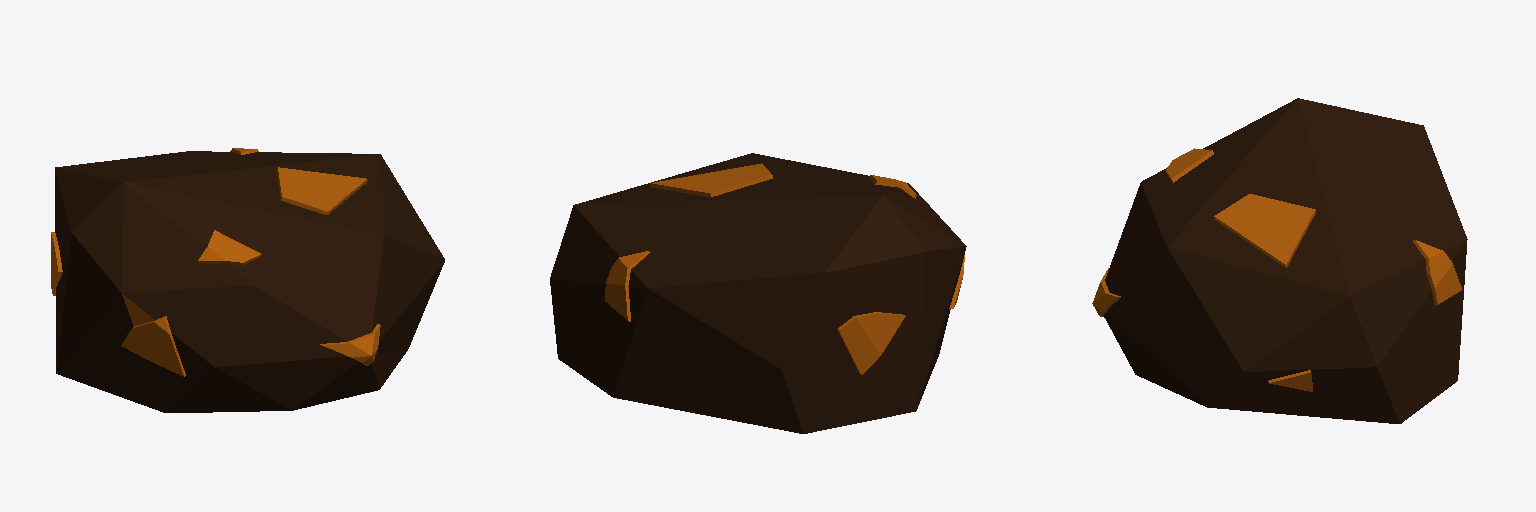
Rendered from GoldOre.obj.
The picture shows the model from 3 angles: view 1: azimuth 30°, elevation 25°; view 2: azimuth 150°, elevation 25°; view 3: azimuth 270°, elevation 25°; orthographic projection.
Visible parts, largest first — view 1: GoldOre; view 2: GoldOre; view 3: GoldOre.
Part boxes in pixels (left/top/right/bottom): GoldOre: left=51, top=148, right=444, bottom=412; GoldOre: left=550, top=153, right=966, bottom=433; GoldOre: left=1092, top=98, right=1467, bottom=423.
Bounding box in the file's own units: 0.3924 × 0.2098 × 0.3662.